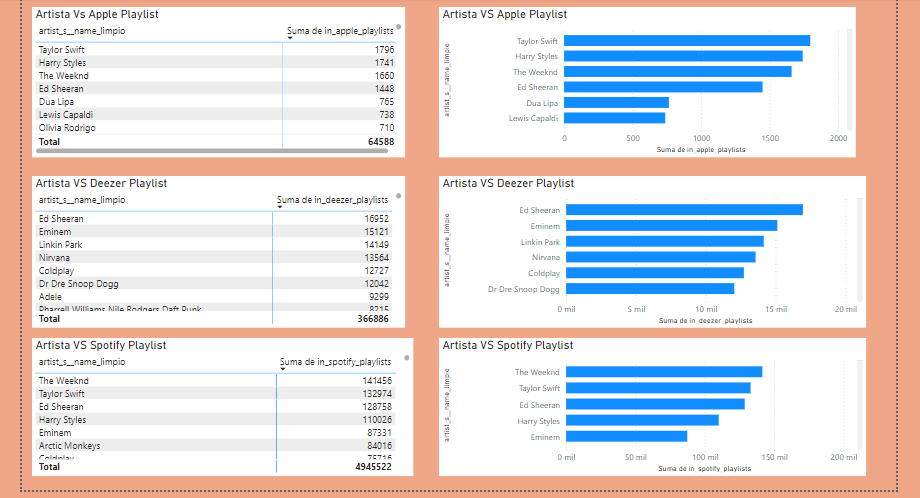

The page's visual inventory and layout, read from the dashboard file:
{"tool":"powerbi","page":{"name":"Dashboard 5","canvas":[1280,720],"ordinal":16},"visuals":[{"type":"pivotTable","title":"Artista Vs Apple Playlist","fields":{"Rows":["view_complete_table.artist_s__name_limpio"],"Values":["Sum(view_complete_table.in_apple_playlists)"]},"box":[14.6,13.2,545.9,219.5],"z":0},{"type":"barChart","title":"Artista VS Apple Playlist","fields":{"Category":["view_complete_table.artist_s__name_limpio"],"Y":["Sum(view_complete_table.in_apple_playlists)"]},"box":[610.2,13.2,610.2,219.5],"z":1000},{"type":"pivotTable","title":"Artista VS Deezer Playlist","fields":{"Rows":["view_complete_table.artist_s__name_limpio"],"Values":["Sum(view_complete_table.in_deezer_playlists)"]},"box":[14.6,260.5,545.9,222.4],"z":2000},{"type":"barChart","title":"Artista VS Deezer Playlist","fields":{"Category":["view_complete_table.artist_s__name_limpio"],"Y":["Sum(view_complete_table.in_deezer_playlists)"]},"box":[610.2,260.5,624.9,222.4],"z":3000},{"type":"pivotTable","title":"Artista VS Spotify Playlist","fields":{"Rows":["view_complete_table.artist_s__name_limpio"],"Values":["Sum(view_complete_table.in_spotify_playlists)"]},"box":[14.6,497.6,557.6,202],"z":4000},{"type":"barChart","title":"Artista VS Spotify Playlist","fields":{"Category":["view_complete_table.artist_s__name_limpio"],"Y":["Sum(view_complete_table.in_spotify_playlists)"]},"box":[610,498,625,202],"z":5000}]}

Visuals, with their boxes on the page's 1280x720 design canvas (x1, y1, x2, y2). These are canvas units, not pixel positions in the 920x498 screenshot, which may show the page scaled, cropped or inside an application window:
"Artista Vs Apple Playlist" pivotTable: 15,13,560,233
"Artista VS Apple Playlist" barChart: 610,13,1220,233
"Artista VS Deezer Playlist" pivotTable: 15,260,560,483
"Artista VS Deezer Playlist" barChart: 610,260,1235,483
"Artista VS Spotify Playlist" pivotTable: 15,498,572,700
"Artista VS Spotify Playlist" barChart: 610,498,1235,700
